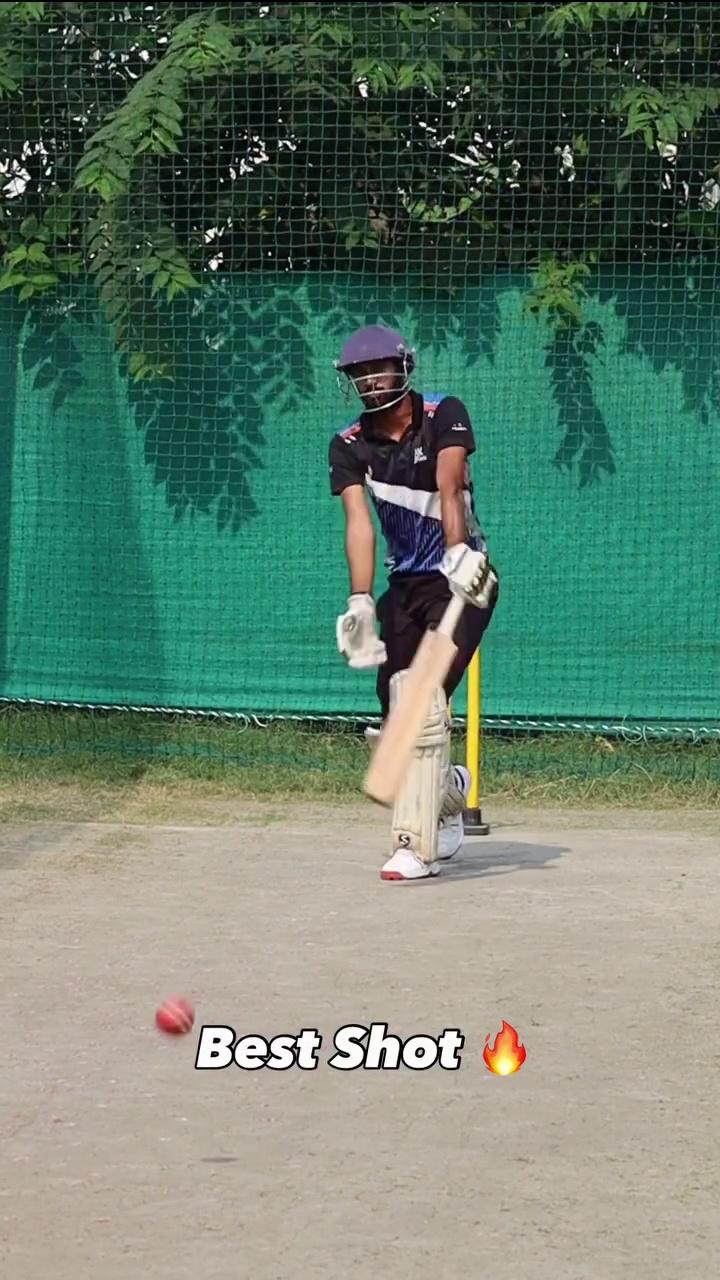bat: (354, 627, 462, 810)
